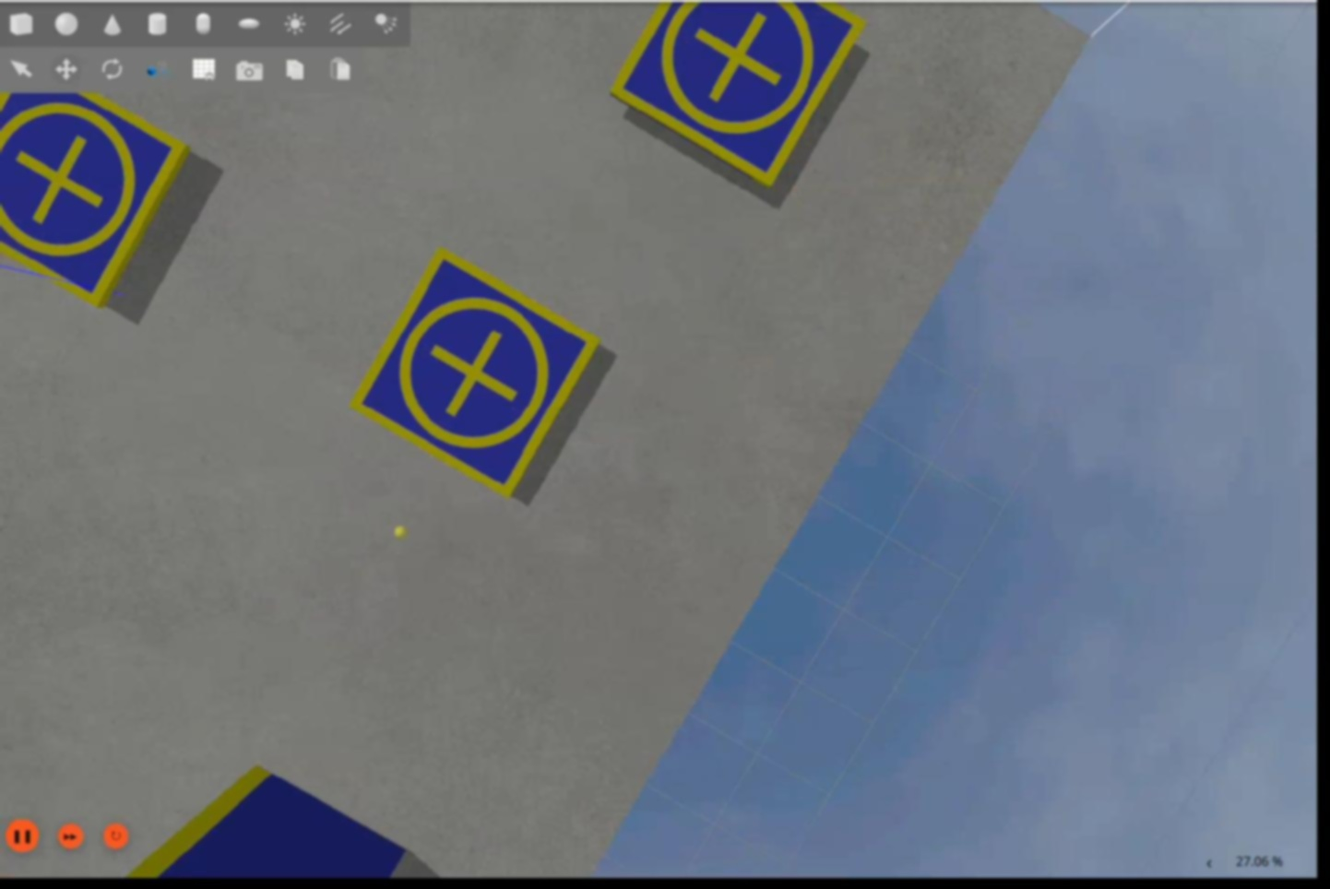small_base: (350, 247, 600, 501), (612, 1, 874, 200), (1, 87, 183, 312)
